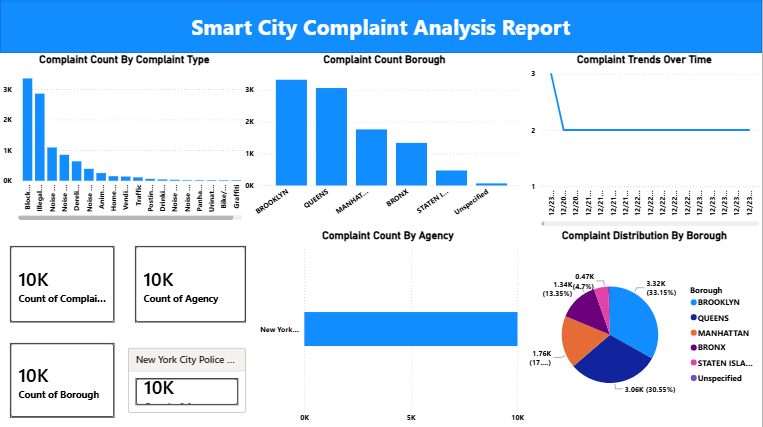

Layout of this report page (visuals, bound fields, positions):
{"tool":"powerbi","page":{"name":"Page 1","canvas":[1280,720],"ordinal":0},"visuals":[{"type":"shape","box":[0,0,1280,90.7],"z":0},{"type":"clusteredColumnChart","title":"Complaint Count By Complaint Type","fields":{"Category":["smart_city_sample (2).Complaint Type"],"Y":["CountNonNull(smart_city_sample (2).Complaint Type)"]},"box":[0,90.7,418.3,285.6],"z":1000},{"type":"cardVisual","title":"Total Complaints","fields":{"Data":["CountNonNull(smart_city_sample (2).Complaint Type)"]},"box":[0,398.1,210,162.9],"z":2000},{"type":"clusteredColumnChart","title":"Complaint Count Borough","fields":{"Category":["smart_city_sample (2).Borough"],"Y":["CountNonNull(smart_city_sample (2).Complaint Type)"]},"box":[406.5,90.7,478.7,285.6],"z":3000},{"type":"lineChart","title":"Complaint Trends Over Time","fields":{"Category":["smart_city_sample (2).Created Date"],"Y":["CountNonNull(smart_city_sample (2).Complaint Type)"]},"box":[885.2,90.7,394.8,295.6],"z":4000},{"type":"barChart","title":"Complaint Count By Agency","fields":{"Category":["smart_city_sample (2).Agency Name"],"Y":["CountNonNull(smart_city_sample (2).Complaint Type)"]},"box":[418.3,386.4,467,334.3],"z":5000},{"type":"pieChart","title":"Complaint Distribution By Borough","fields":{"Category":["smart_city_sample (2).Borough"],"Y":["CountNonNull(smart_city_sample (2).Complaint Type)"]},"box":[885.2,386.4,394.8,334.3],"z":6000},{"type":"cardVisual","fields":{"Data":["CountNonNull(smart_city_sample (2).Borough)"]},"box":[0,561,210,159.6],"z":6001},{"type":"cardVisual","fields":{"Data":["CountNonNull(smart_city_sample (2).Agency)"]},"box":[210,398.1,220.1,162.9],"z":6002},{"type":"cardVisual","fields":{"Rows":["smart_city_sample (2).Agency Name"],"Data":["CountNonNull(smart_city_sample (2).Agency)"]},"box":[210,561,208.3,159.6],"z":6003}]}

Visuals, with their boxes in screenshot pixels (x1, y1, x2, y2), scaled from the page's 1280x720 canvas onto the 763x427 screenshot:
shape: [x1=0, y1=0, x2=762, y2=54]
"Complaint Count By Complaint Type" clusteredColumnChart: [x1=0, y1=54, x2=249, y2=223]
"Total Complaints" cardVisual: [x1=0, y1=236, x2=125, y2=333]
"Complaint Count Borough" clusteredColumnChart: [x1=242, y1=54, x2=528, y2=223]
"Complaint Trends Over Time" lineChart: [x1=528, y1=54, x2=762, y2=229]
"Complaint Count By Agency" barChart: [x1=249, y1=229, x2=528, y2=426]
"Complaint Distribution By Borough" pieChart: [x1=528, y1=229, x2=762, y2=426]
cardVisual - CountNonNull(smart_city_sample (2).Borough): [x1=0, y1=333, x2=125, y2=426]
cardVisual - CountNonNull(smart_city_sample (2).Agency): [x1=125, y1=236, x2=256, y2=333]
cardVisual - smart_city_sample (2).Agency Name x CountNonNull(smart_city_sample (2).Agency): [x1=125, y1=333, x2=249, y2=426]
